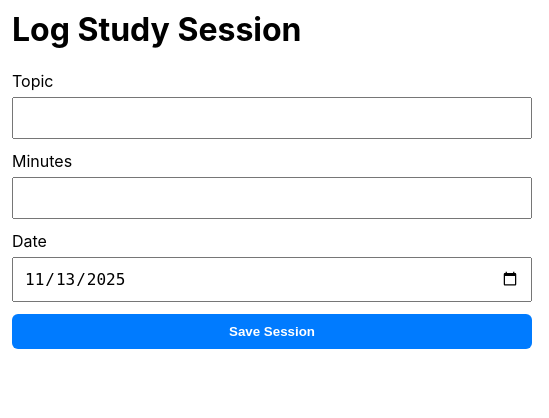
Test: Study page › creates session successfully and shows success
Type "Physics" into the field labelled "Topic" at (272, 118), box [12,97,532,139]
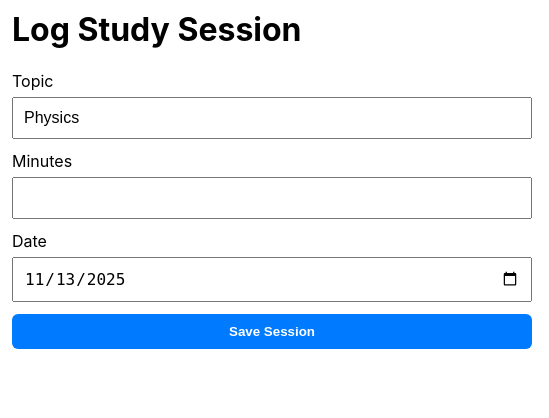
Type "25" into the number field labelled "Minutes" at (272, 198), box [12,177,532,219]
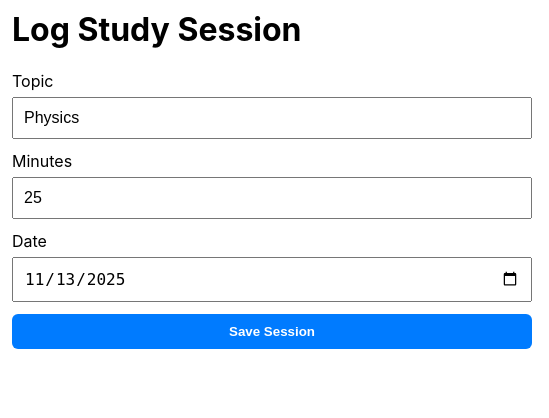
Click the button "Save Session" at (272, 331), box [12,314,532,349]
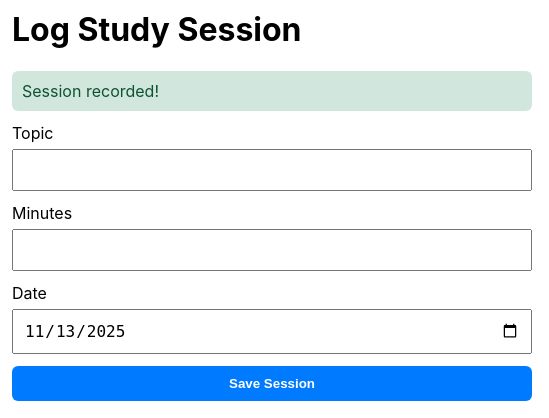
Result: the message reads "Session recorded!" at [22,81,159,101]
